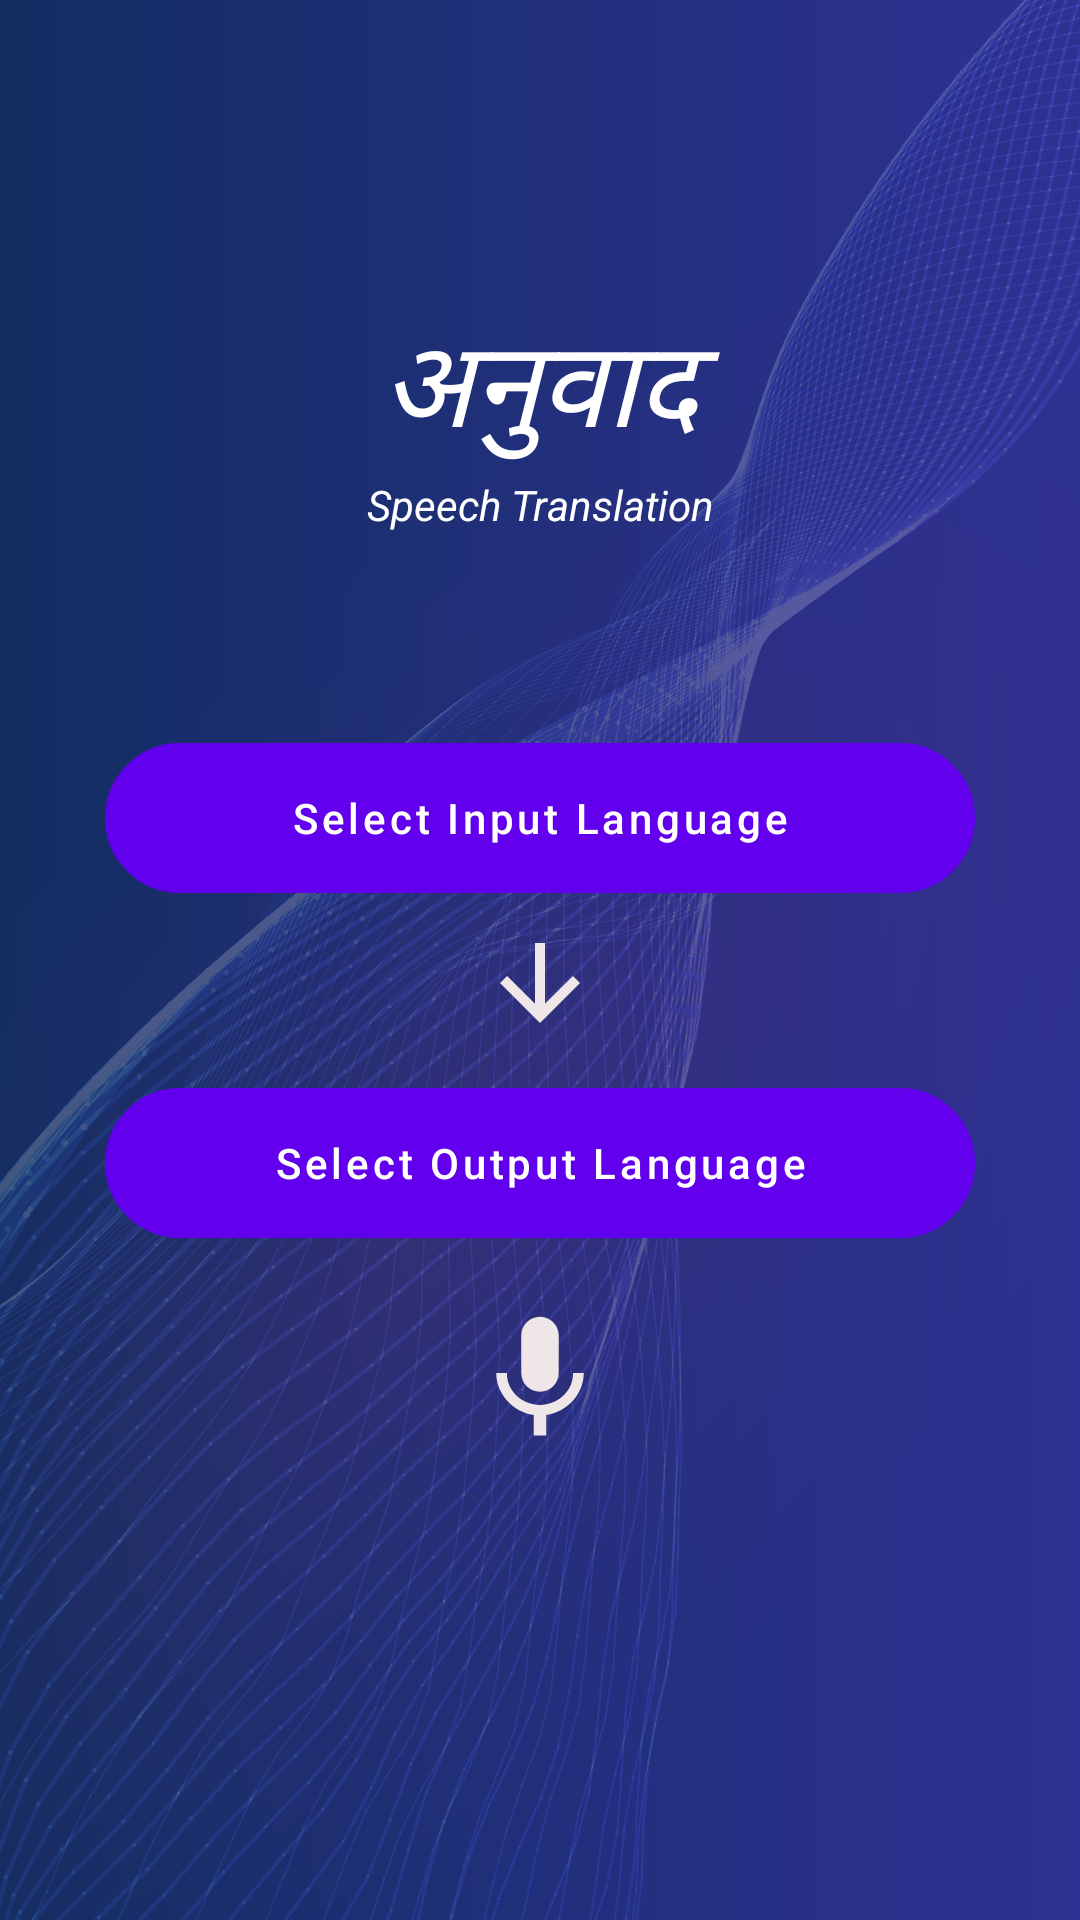

Icons on this 1080×1920 Android screen, each with its box as region(x1, y1, x2, y2):
arrow downward: region(480, 923, 600, 1043)
keyboard voice: region(465, 1298, 615, 1448)
